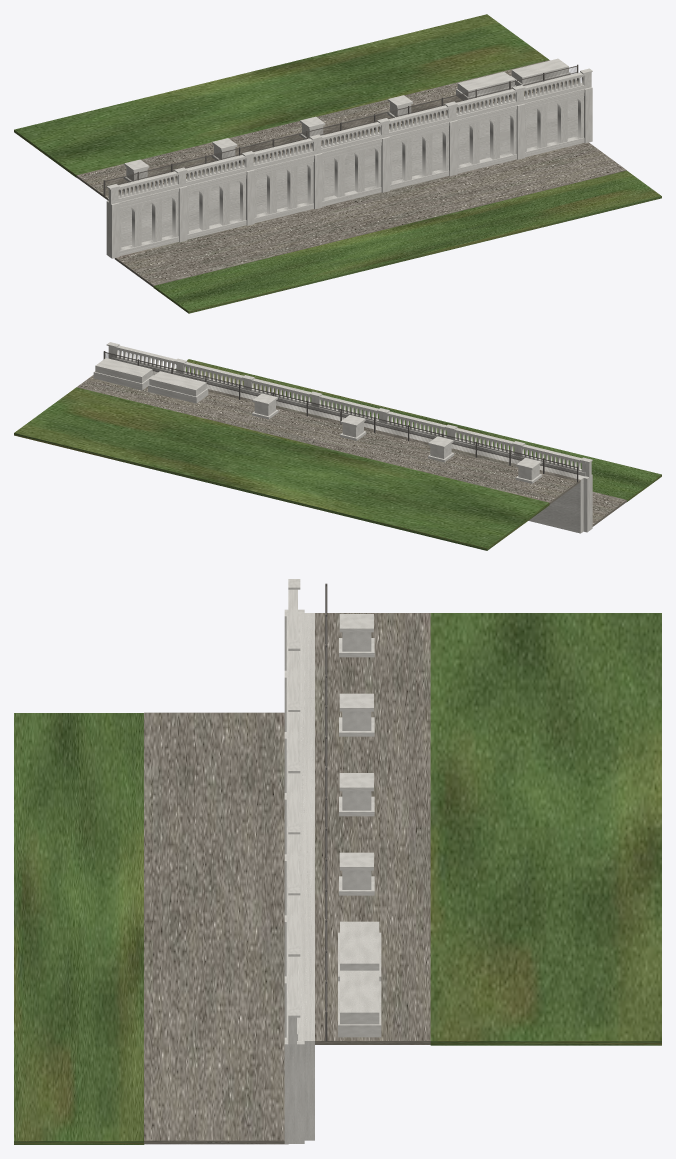
3 views of the same model, one above another, from view 1: azimuth 30°, elevation 25°; view 2: azimuth 150°, elevation 25°; view 3: azimuth 270°, elevation 25° (orthographic). The views are drawn at different scales.
Visible parts, largest first — view 1: GrassTop, WallPlinth, GravelTop, FenceMesh, FencePosts; view 2: GrassTop, WallPlinth, GravelTop, FenceMesh, FencePosts; view 3: GrassTop, GravelTop, WallPlinth, FencePosts.
Part boxes in pixels (x1,y1,x2,y2): GrassTop: [14, 14, 661, 313]; WallPlinth: [106, 58, 592, 258]; GravelTop: [76, 60, 626, 287]; FenceMesh: [105, 67, 576, 194]; FencePosts: [103, 64, 578, 195]; GrassTop: [14, 359, 661, 550]; WallPlinth: [93, 342, 592, 533]; GravelTop: [77, 375, 626, 526]; FenceMesh: [105, 352, 576, 480]; FencePosts: [103, 351, 578, 482]; GrassTop: [14, 613, 661, 1144]; GravelTop: [144, 613, 430, 1144]; WallPlinth: [284, 579, 381, 1143]; FencePosts: [325, 583, 327, 1041].
Size of the model in its own units: 35.71 by 5.1 by 22.4.
Materials: 5 (4 with a texture image).
